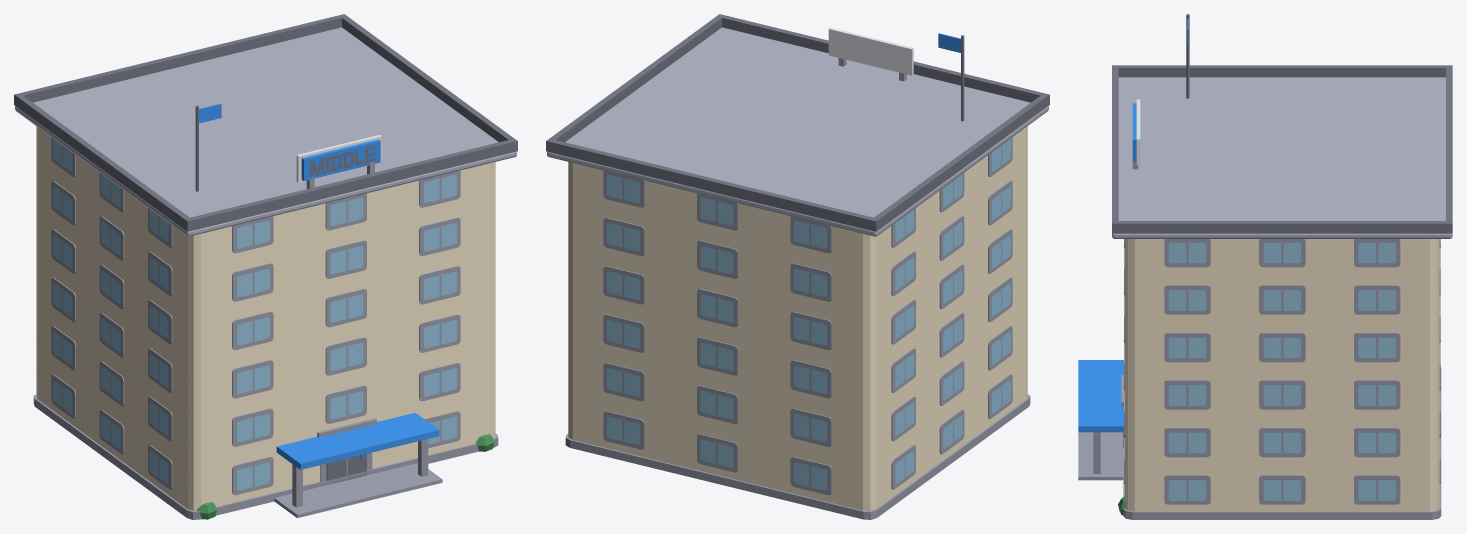
File: middle-school-2x2-6f.glb
3 views of the same model, side by side, from view 1: azimuth 30°, elevation 25°; view 2: azimuth 150°, elevation 25°; view 3: azimuth 270°, elevation 25° (orthographic).
Parts seen in each view (by area): view 1: middle-school-2x2-6f; view 2: middle-school-2x2-6f; view 3: middle-school-2x2-6f.
Boxes of the visible parts, x1=… form: middle-school-2x2-6f: x1=14, y1=14, x2=517, y2=519; middle-school-2x2-6f: x1=546, y1=14, x2=1049, y2=519; middle-school-2x2-6f: x1=1078, y1=14, x2=1452, y2=519.
Bounding box in the file's own units: 2 × 2.21 × 2.
Materials: 1 (1 with a texture image).
